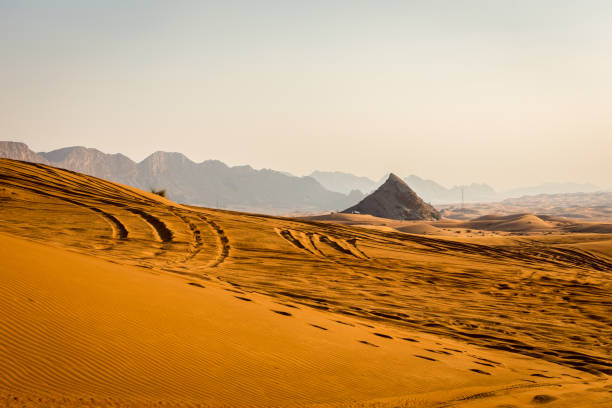vehicle_track: (0, 162, 174, 254), (370, 311, 611, 374), (384, 233, 611, 270), (0, 176, 128, 239), (9, 161, 155, 204), (275, 228, 369, 274), (3, 171, 124, 200), (99, 199, 173, 243), (99, 199, 173, 242), (34, 164, 124, 198), (432, 383, 558, 407), (275, 229, 367, 259), (534, 247, 611, 271), (125, 207, 173, 242), (171, 209, 203, 261), (198, 214, 229, 267), (81, 204, 127, 239), (318, 235, 361, 258), (276, 229, 314, 254), (346, 237, 369, 258), (307, 232, 325, 256)
